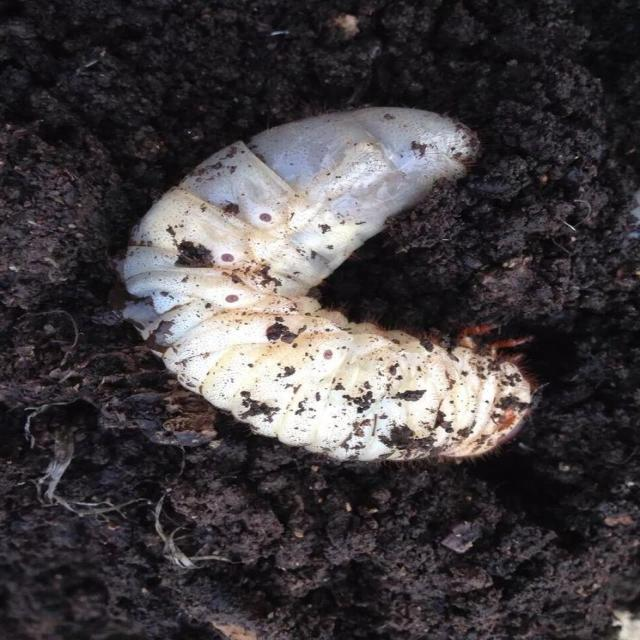grub: (96, 109, 542, 459)
